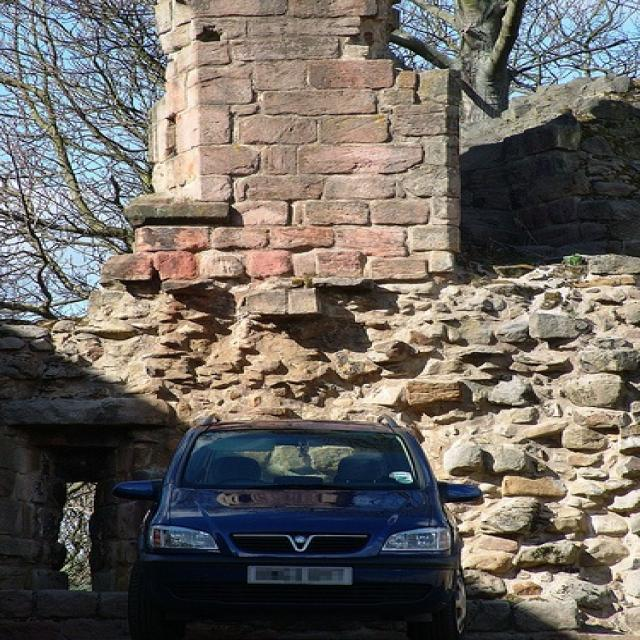car: (114, 414, 483, 636)
